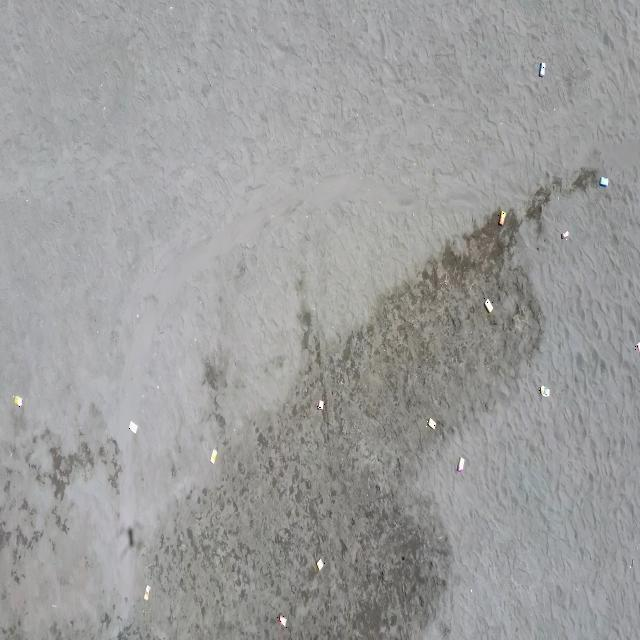Garbage: (455, 456, 464, 472), (276, 613, 286, 627), (497, 209, 506, 224), (12, 395, 22, 407), (143, 584, 150, 600), (209, 448, 216, 463), (484, 299, 492, 312), (128, 420, 136, 432), (537, 63, 544, 76), (427, 417, 435, 428), (128, 527, 132, 546), (540, 386, 548, 395), (316, 400, 324, 409), (316, 559, 323, 569), (600, 176, 606, 187), (560, 230, 567, 238), (635, 343, 639, 351)
